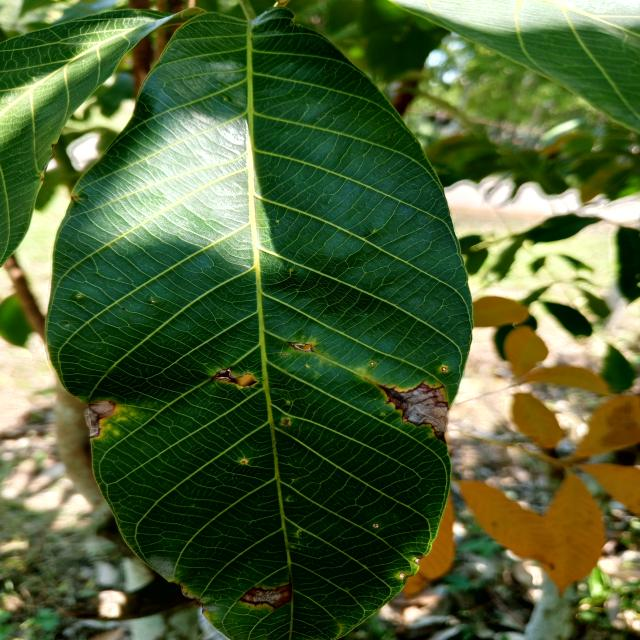Colletotrichum: (372, 522, 380, 528), (441, 367, 446, 371), (281, 353, 286, 356), (370, 362, 374, 365), (429, 435, 433, 437), (242, 461, 246, 463)
Leaf-Blight: (401, 384, 448, 434), (85, 400, 116, 437), (252, 590, 282, 603)
